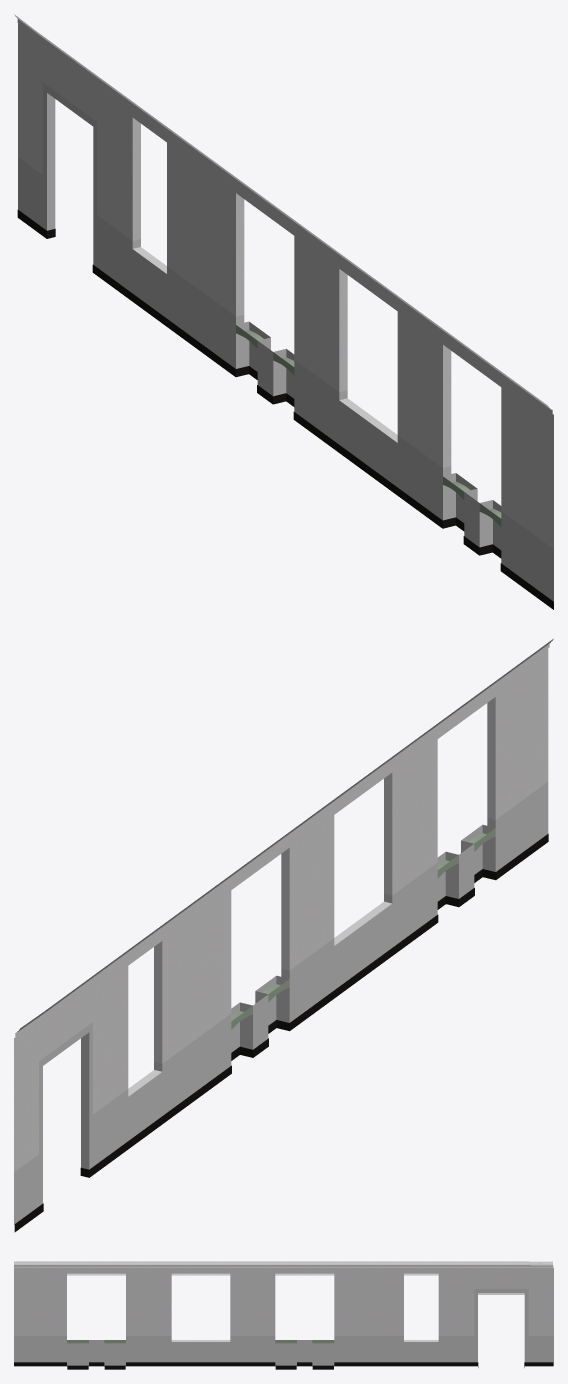
The model's file is SM_Wall_Tiled_3.fbx.
3 views of the same model, one above another, from view 1: azimuth 30°, elevation 25°; view 2: azimuth 150°, elevation 25°; view 3: azimuth 270°, elevation 25° (orthographic). The views are drawn at different scales.
Visible parts, largest first — view 1: SM_Wall_Tiled_3; view 2: SM_Wall_Tiled_3; view 3: SM_Wall_Tiled_3.
Boxes of the visible parts, x1,y1,x2,y2 form: SM_Wall_Tiled_3: [14, 14, 553, 609]; SM_Wall_Tiled_3: [14, 638, 553, 1232]; SM_Wall_Tiled_3: [14, 1261, 553, 1369].
Bounding box in the file's own units: 43.28 × 2123 × 449.
